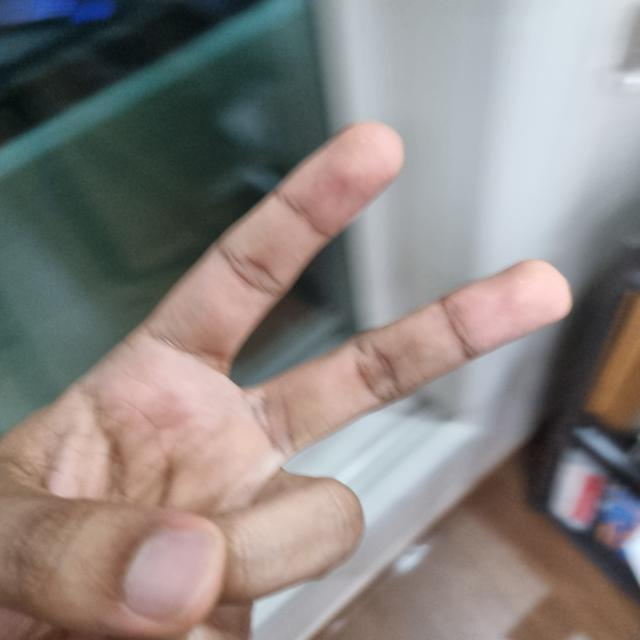Scissors: (0, 120, 570, 639)
